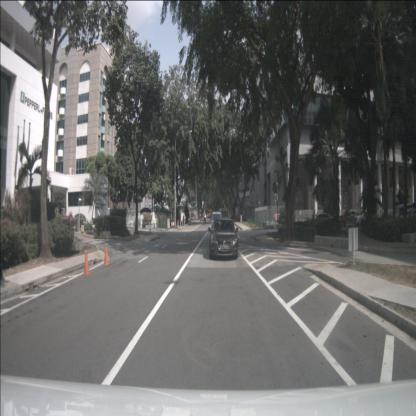human-pedestrian-adult: (312, 210, 315, 230)
movable_object-trafficcone: (82, 250, 92, 276), (102, 244, 110, 266)
vehicle-car: (209, 218, 238, 260), (354, 209, 378, 226), (308, 213, 334, 226), (211, 212, 222, 235)
vehicle-motorcycle: (203, 212, 207, 225)
vehicle-truck: (394, 203, 415, 224)
